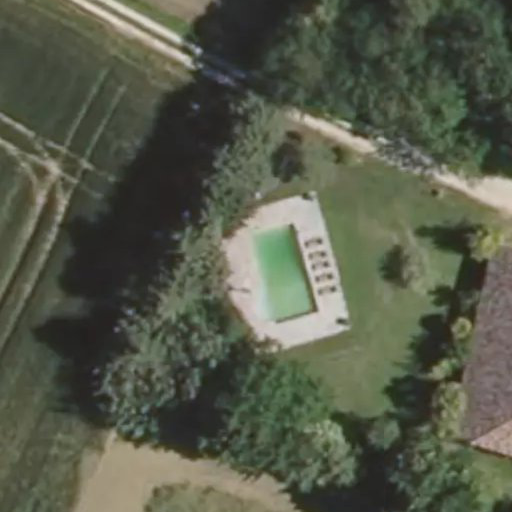pool: (221, 197, 290, 289)
